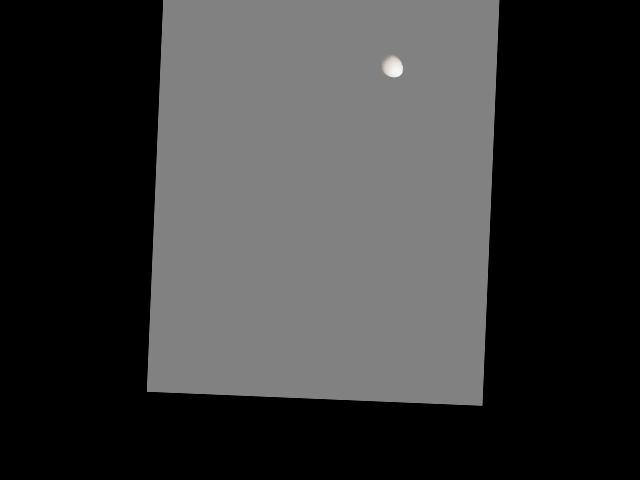egg: (380, 53, 403, 77)
